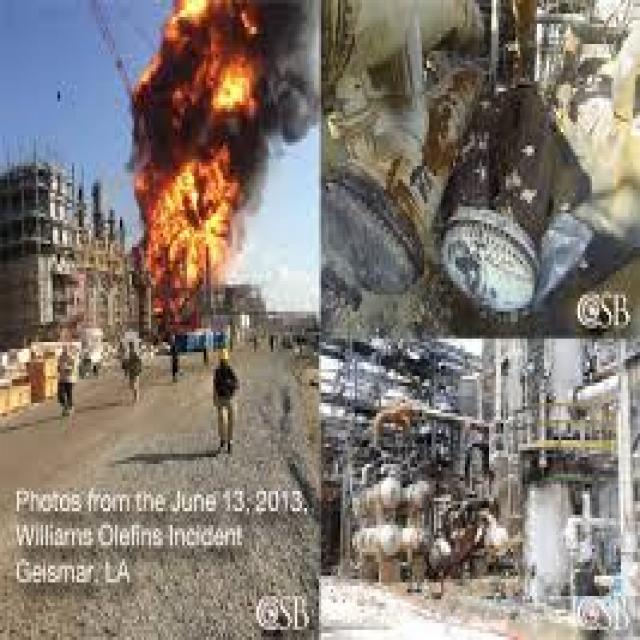fire: (127, 3, 321, 322)
